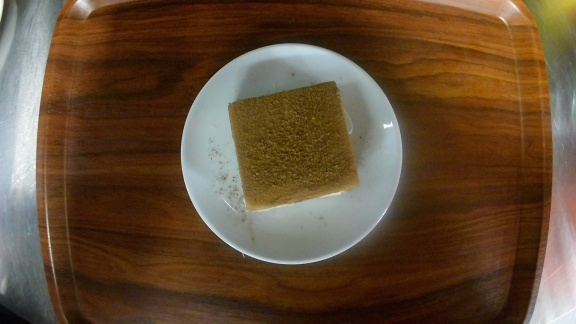tiramisu: (180, 42, 403, 265)
